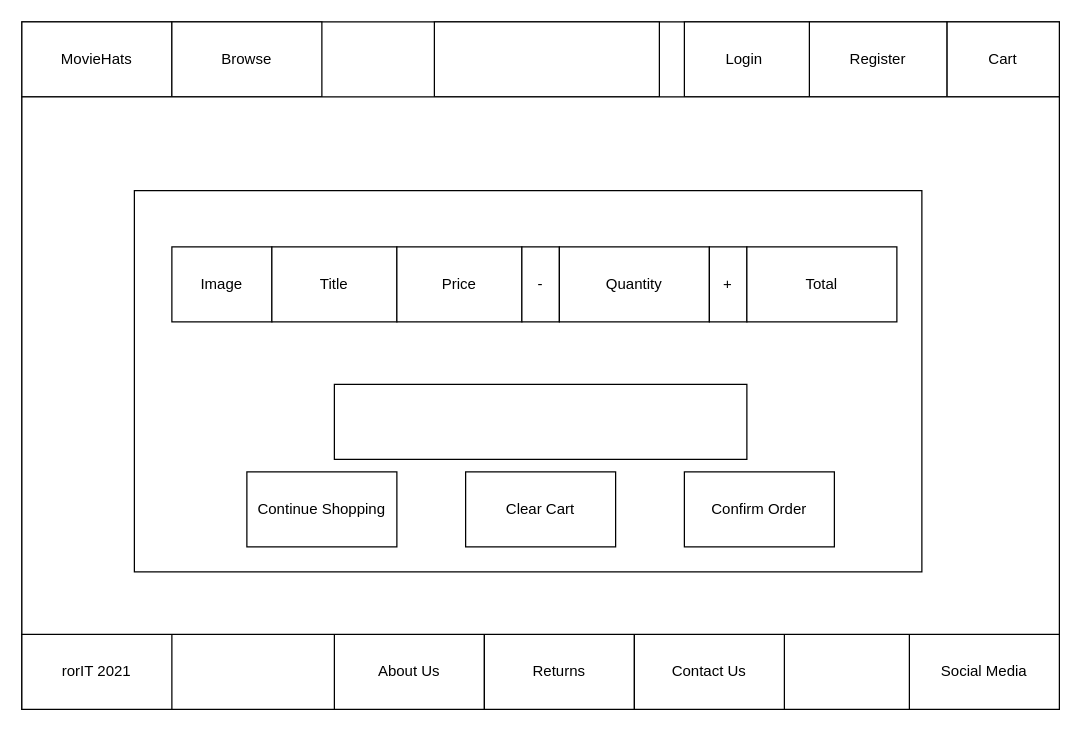
The diagram is 1081 pixels wide and 731 high, and some of its shapes have lost their labels. Each missing label, with the centre of its shape:
"Grand Total" goes at (x=540, y=421).
"Search and Enter" goes at (x=546, y=59).
